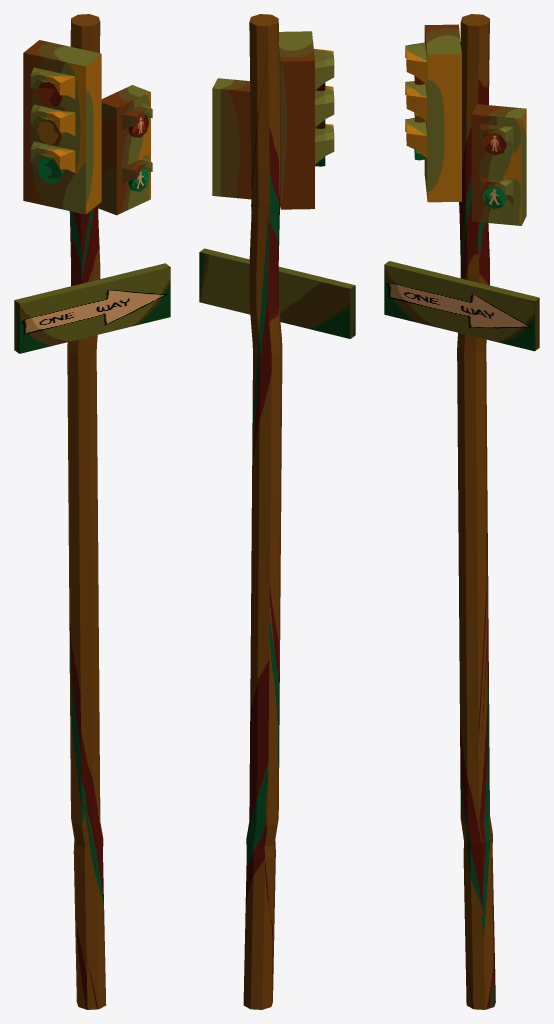
The model's file is trafficLightsFBX 1.fbx.
3 views of the same model, side by side, from view 1: azimuth 30°, elevation 25°; view 2: azimuth 150°, elevation 25°; view 3: azimuth 330°, elevation 25° (orthographic).
Visible parts, largest first — view 1: lightPole, trafficLight, streetName, pedestrianTrafficLight, ledLight2, ledLight1, ledLight; view 2: lightPole, trafficLight, streetName, pedestrianTrafficLight; view 3: lightPole, streetName, trafficLight, pedestrianTrafficLight, pedestrianLight1, pedestrianLight.
Part boxes in pixels (x1,y1,x2,y2): lightPole: (67, 14, 106, 1009); trafficLight: (23, 40, 101, 214); streetName: (14, 263, 170, 353); pedestrianTrafficLight: (98, 85, 152, 215); ledLight2: (36, 157, 63, 183); ledLight1: (36, 119, 63, 145); ledLight: (37, 82, 63, 107); lightPole: (243, 14, 282, 1009); trafficLight: (278, 31, 334, 209); streetName: (199, 248, 355, 338); pedestrianTrafficLight: (212, 78, 251, 199); lightPole: (457, 14, 495, 1009); streetName: (384, 261, 539, 351); trafficLight: (405, 24, 461, 202); pedestrianTrafficLight: (471, 104, 526, 225); pedestrianLight1: (482, 186, 506, 209); pedestrianLight: (482, 133, 506, 155).
Size of the model in its own units: 1.4 by 8.72 by 0.6246.
